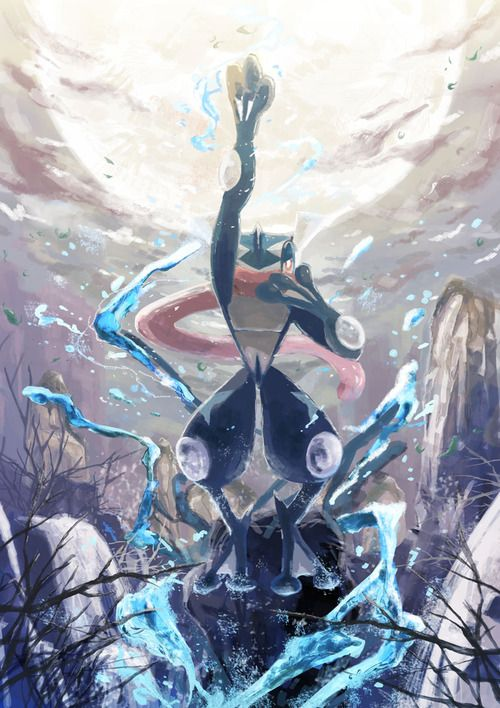greninja: (132, 46, 391, 604)
